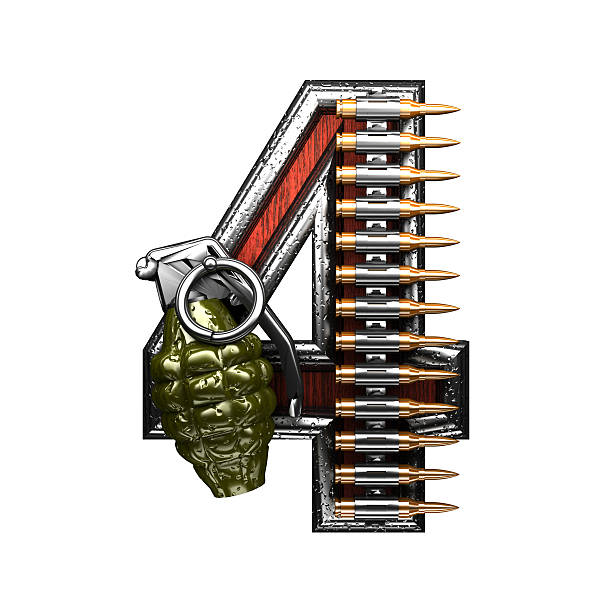e1: (133, 238, 303, 500)
